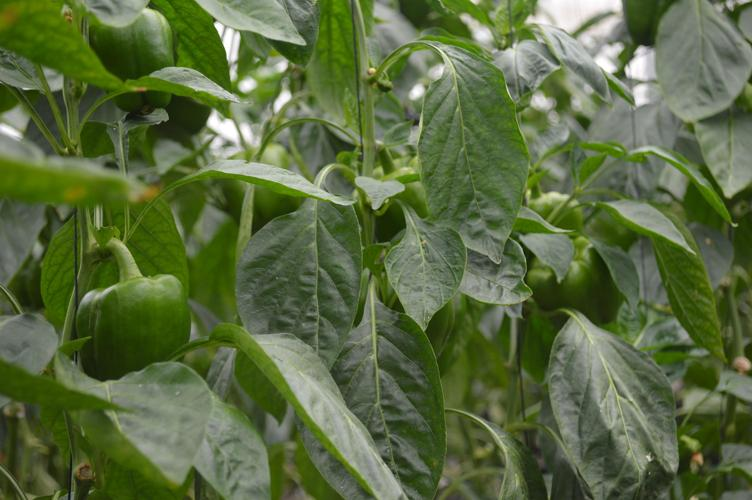BellPepper: (73, 262, 197, 393), (528, 237, 632, 325), (90, 11, 178, 111), (209, 137, 309, 210)
